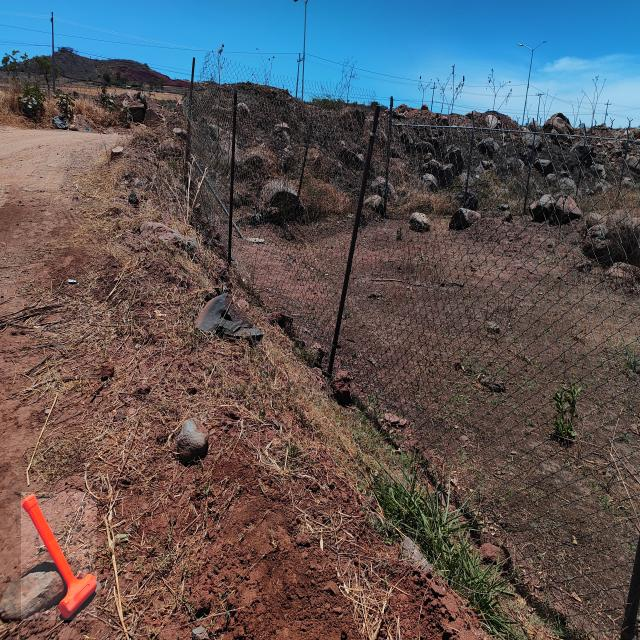Orange_hammer: (21, 492, 97, 620)
